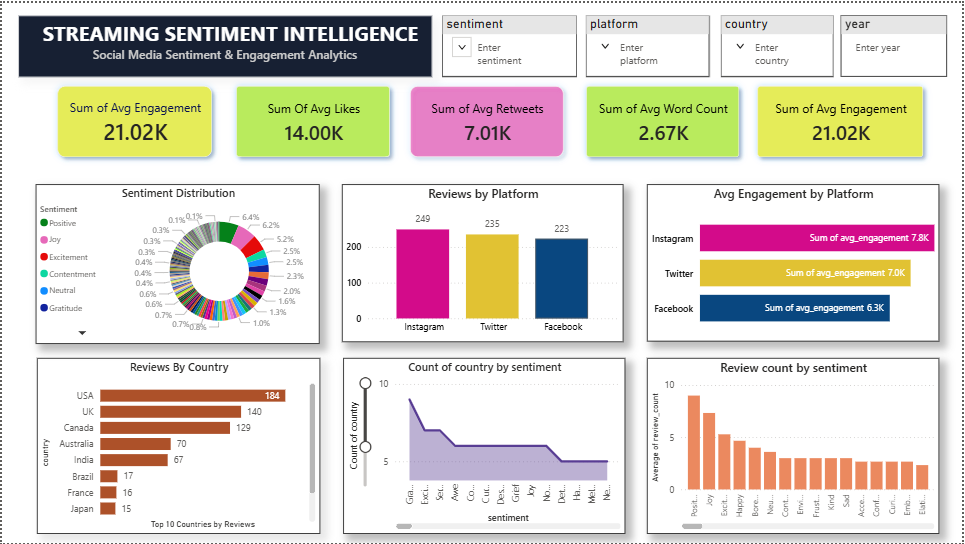

The dashboard page shown, as its layout file describes it:
{"tool":"powerbi","page":{"name":"Sentiment Intelligence Overview","canvas":[1280,720],"ordinal":0},"visuals":[{"type":"textbox","box":[22,16.5,551.6,82.3],"z":0},{"type":"donutChart","title":"Sentiment Distribution","fields":{"Category":["vw_powerbi_sentiment.sentiment"],"Y":["Sum(vw_powerbi_sentiment.total_reviews)"]},"box":[45.3,241.5,378.7,212.7],"z":1000},{"type":"clusteredColumnChart","title":"Reviews by Platform","fields":{"Category":["vw_powerbi_platform.platform"],"Y":["Sum(vw_powerbi_platform.review_count)"]},"box":[453.7,242.1,375.4,210.3],"z":2000},{"type":"clusteredBarChart","title":"Avg Engagement by Platform","fields":{"Y":["Sum(vw_powerbi_platform.avg_engagement)"],"Category":["vw_powerbi_platform.platform"]},"box":[860.4,241.5,389.7,209.9],"z":3000},{"type":"cardVisual","fields":{"Data":["Sum(vw_powerbi_platform.avg_engagement)"]},"box":[45.3,82.3,264.8,153.7],"z":4000},{"type":"cardVisual","fields":{"Data":["Sum(vw_powerbi_platform.avg_likes)"]},"box":[282.7,82.3,263.5,153.7],"z":5000},{"type":"cardVisual","fields":{"Data":["Sum(vw_powerbi_platform.avg_retweets)"]},"box":[514.6,82.3,263.5,153.7],"z":6000},{"type":"cardVisual","fields":{"Data":["Sum(vw_powerbi_sentiment.avg_word_count)"]},"box":[750.6,82.3,262.1,153.7],"z":7000},{"type":"cardVisual","fields":{"Data":["Sum(vw_powerbi_platform.avg_engagement)"]},"box":[978.4,82.3,279.9,153.7],"z":8000},{"type":"textSlicer","fields":{"Values":["vw_powerbi_sentiment.sentiment"]},"box":[587,17.1,179.8,81.9],"z":9000},{"type":"textSlicer","fields":{"Values":["vw_powerbi_platform.platform"]},"box":[777.7,17.1,165.1,81.9],"z":10000},{"type":"textSlicer","fields":{"Values":["vw_powerbi_country.country"]},"box":[958.7,17.1,150.4,81.9],"z":11000},{"type":"textSlicer","fields":{"Values":["vw_powerbi_time.year"]},"box":[1117.7,17.1,141.8,81.9],"z":12000},{"type":"clusteredBarChart","title":"Reviews By Country","fields":{"Category":["vw_powerbi_country.country"],"Y":["Sum(vw_powerbi_country.review_count)"]},"box":[46.7,473.4,377.4,234.6],"z":13000},{"type":"lineChart","fields":{"Category":["vw_powerbi_country.sentiment"],"Y":["CountNonNull(vw_powerbi_country.country)"]},"box":[454.2,473.4,376,234.6],"z":14000},{"type":"columnChart","title":"Review count by sentiment","fields":{"Category":["vw_powerbi_country.sentiment"],"Y":["Avg(vw_powerbi_country.review_count)"]},"box":[860.4,473.4,389.7,234.6],"z":15000}]}

Visuals, with their boxes in screenshot pixels (x1, y1, x2, y2), scaled from the page's 1280x720 canvas onto the 965x544 screenshot:
textbox: box(17, 12, 432, 75)
"Sentiment Distribution" donutChart: box(34, 182, 320, 343)
"Reviews by Platform" clusteredColumnChart: box(342, 183, 625, 342)
"Avg Engagement by Platform" clusteredBarChart: box(649, 182, 942, 341)
cardVisual - Sum(vw_powerbi_platform.avg_engagement): box(34, 62, 234, 178)
cardVisual - Sum(vw_powerbi_platform.avg_likes): box(213, 62, 412, 178)
cardVisual - Sum(vw_powerbi_platform.avg_retweets): box(388, 62, 587, 178)
cardVisual - Sum(vw_powerbi_sentiment.avg_word_count): box(566, 62, 763, 178)
cardVisual - Sum(vw_powerbi_platform.avg_engagement): box(738, 62, 949, 178)
textSlicer - vw_powerbi_sentiment.sentiment: box(443, 13, 578, 75)
textSlicer - vw_powerbi_platform.platform: box(586, 13, 711, 75)
textSlicer - vw_powerbi_country.country: box(723, 13, 836, 75)
textSlicer - vw_powerbi_time.year: box(843, 13, 950, 75)
"Reviews By Country" clusteredBarChart: box(35, 358, 320, 535)
lineChart - vw_powerbi_country.sentiment x CountNonNull(vw_powerbi_country.country): box(342, 358, 626, 535)
"Review count by sentiment" columnChart: box(649, 358, 942, 535)
